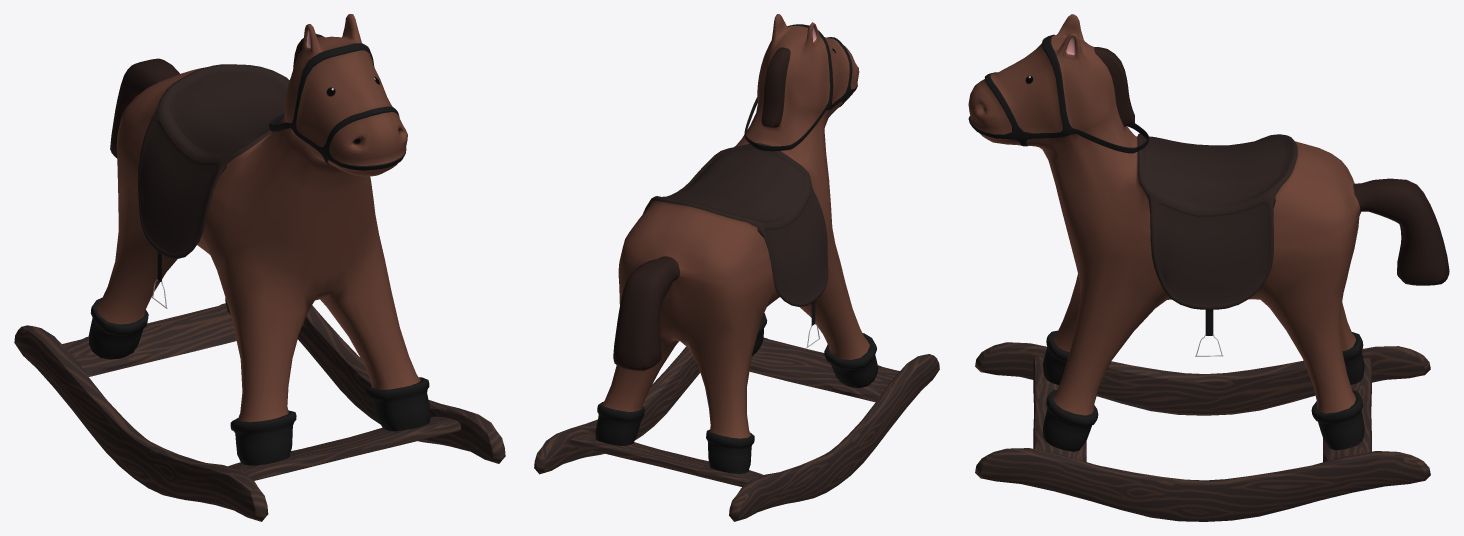
Rendered from Toy Horse.FBX.
3 renders of one model, left to right at view 1: azimuth 30°, elevation 25°; view 2: azimuth 150°, elevation 25°; view 3: azimuth 270°, elevation 25°, orthographic. The views are drawn at different scales.
Visible parts, largest first — view 1: Box001; view 2: Box001; view 3: Box001.
Boxes of the visible parts, <box> form: Box001: <box>14,14,505,521</box>; Box001: <box>534,14,939,521</box>; Box001: <box>968,14,1449,521</box>.
Size of the model in its own units: 34.72 by 63.35 by 62.02.
Materials: 1 (1 with a texture image).
